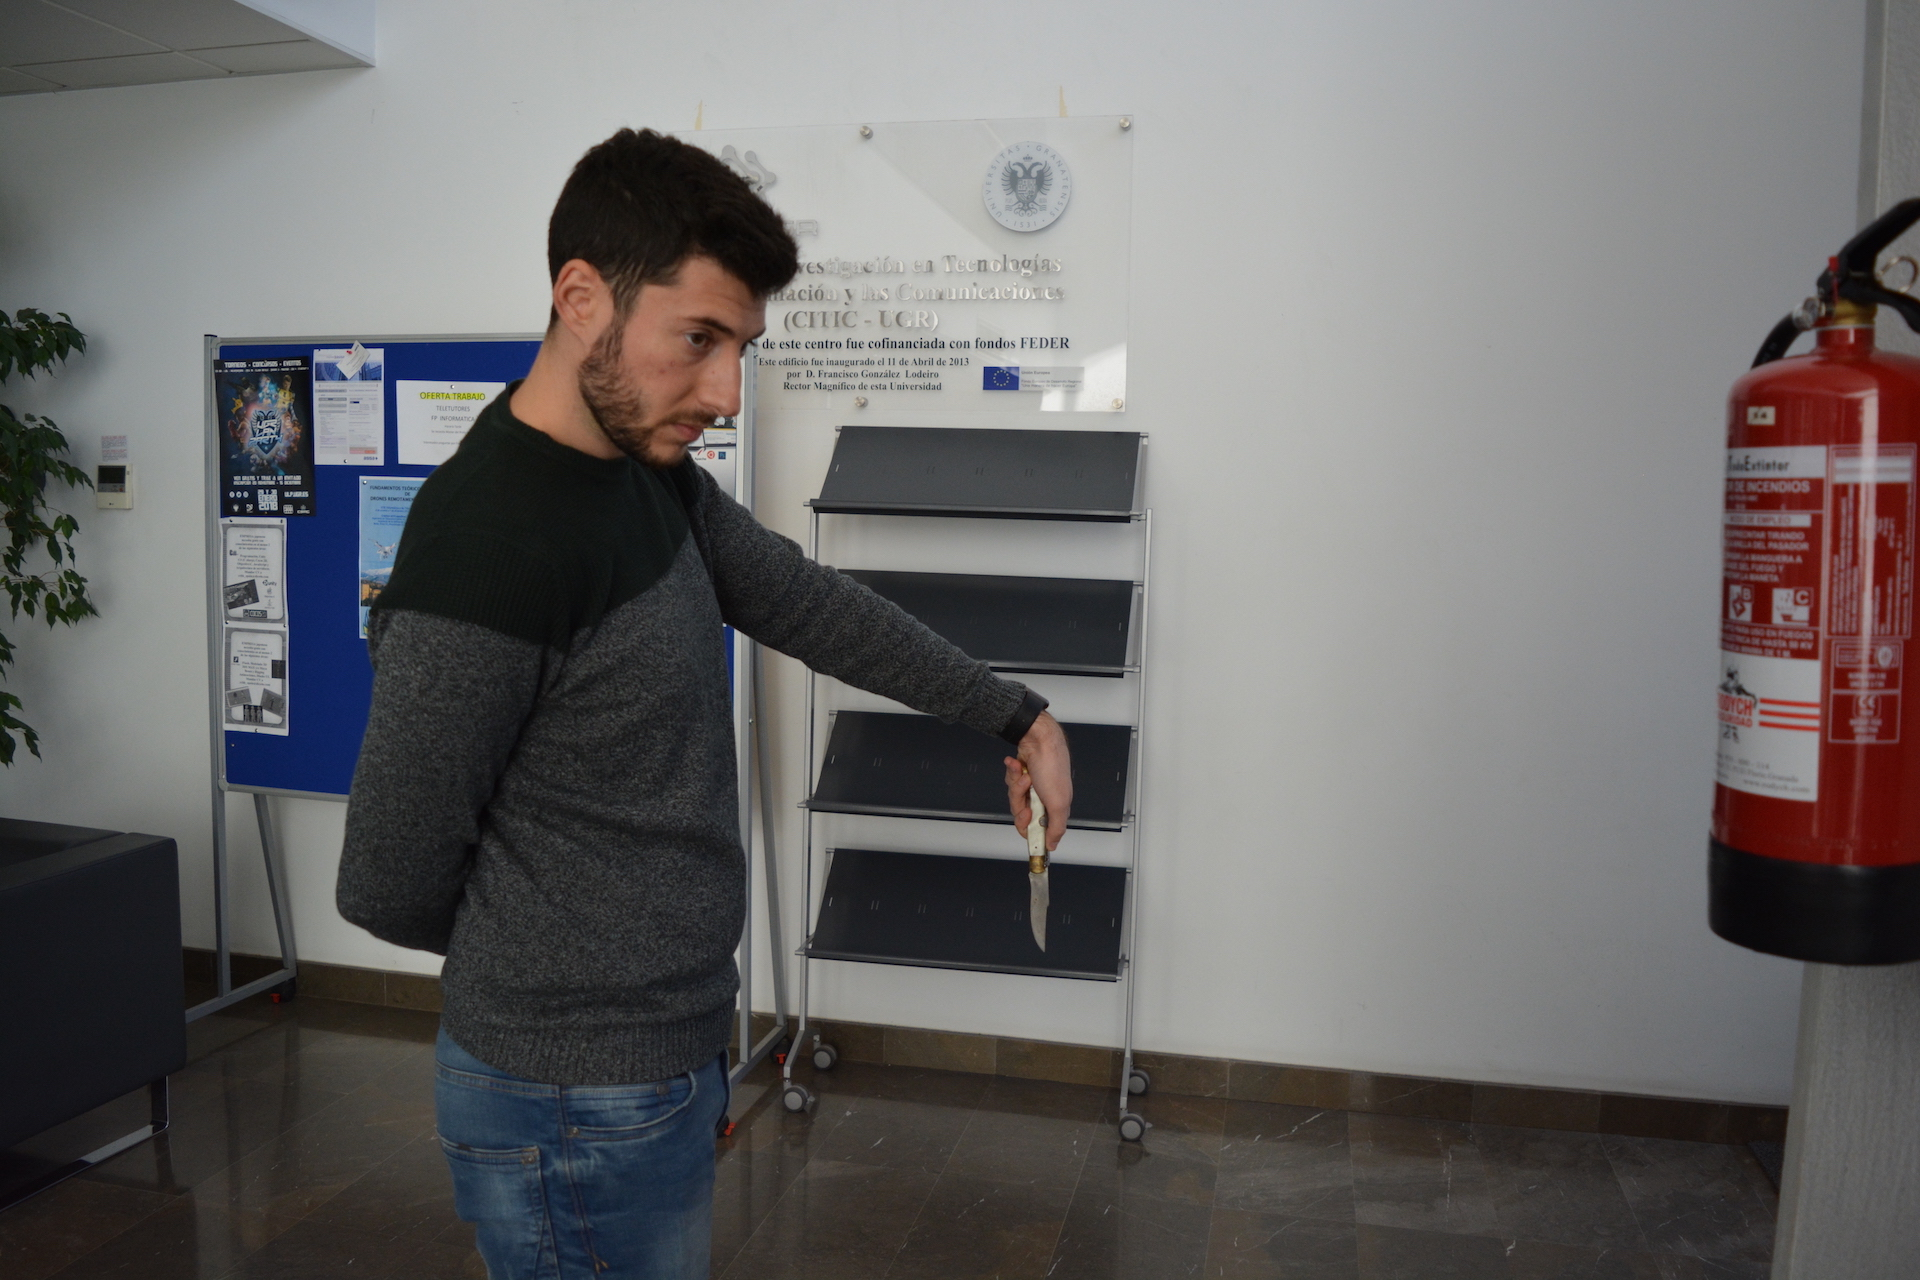knife: (1011, 759, 1059, 967)
